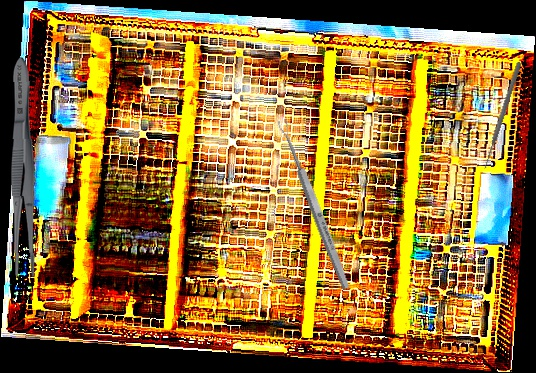Dressing Forceps: (7, 56, 39, 279)
Pusher: (481, 61, 523, 170)
Surgical Spoon: (276, 117, 352, 291)
